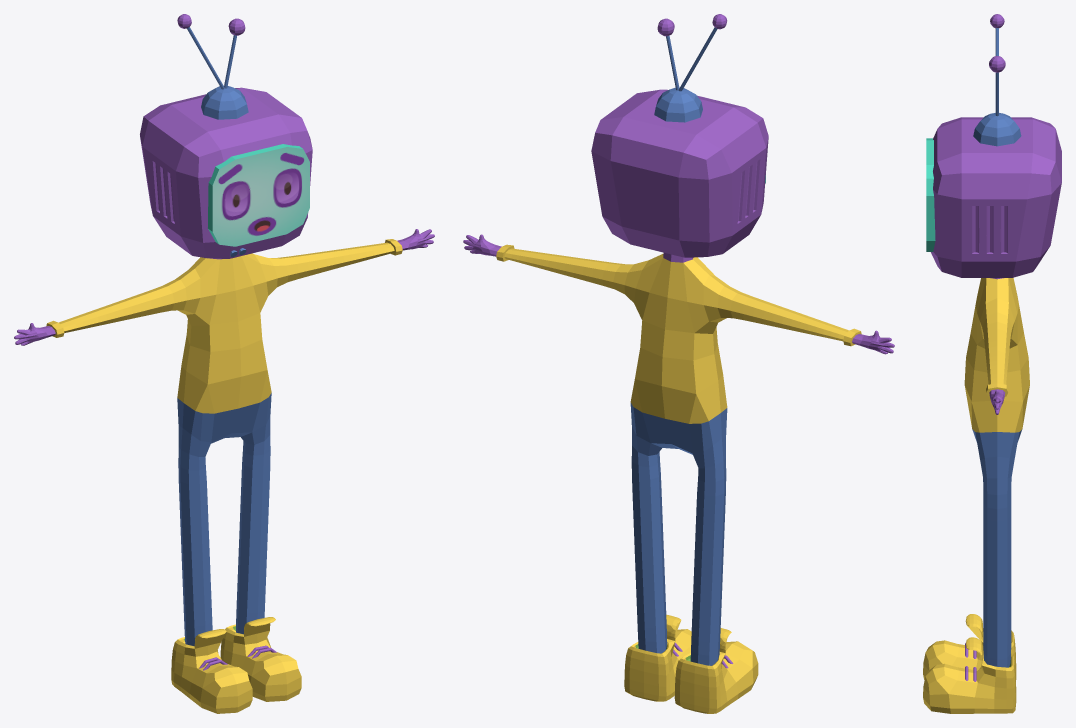
File: customer-1.fbx
The picture shows the model from 3 angles, left to right: view 1: azimuth 30°, elevation 25°; view 2: azimuth 150°, elevation 25°; view 3: azimuth 270°, elevation 25°; orthographic projection. The views are drawn at different scales.
Visible parts, largest first — view 1: Cube; view 2: Cube; view 3: Cube.
Boxes of the visible parts, x1,y1,x2,y2 form: Cube: (14, 14, 434, 713); Cube: (463, 14, 894, 713); Cube: (923, 14, 1061, 713).
Size of the model in its own units: 280 by 432 by 82.21.
8 materials, 1 textured.
